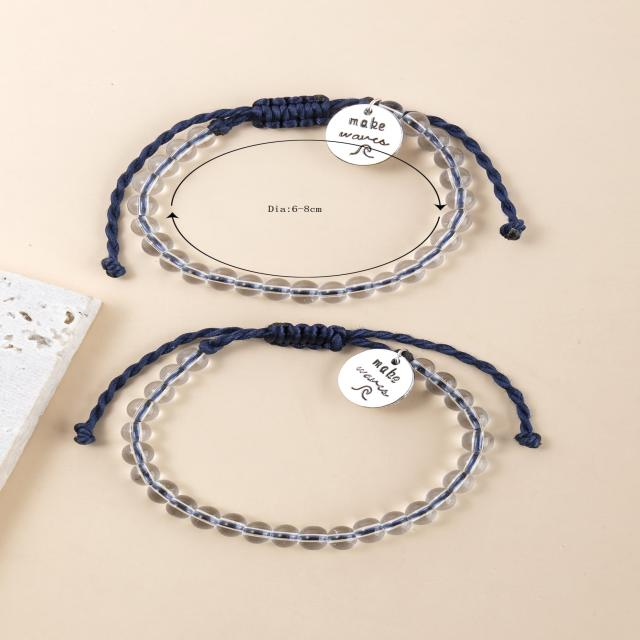bracelet: (4, 0, 631, 336), (45, 293, 614, 589)
